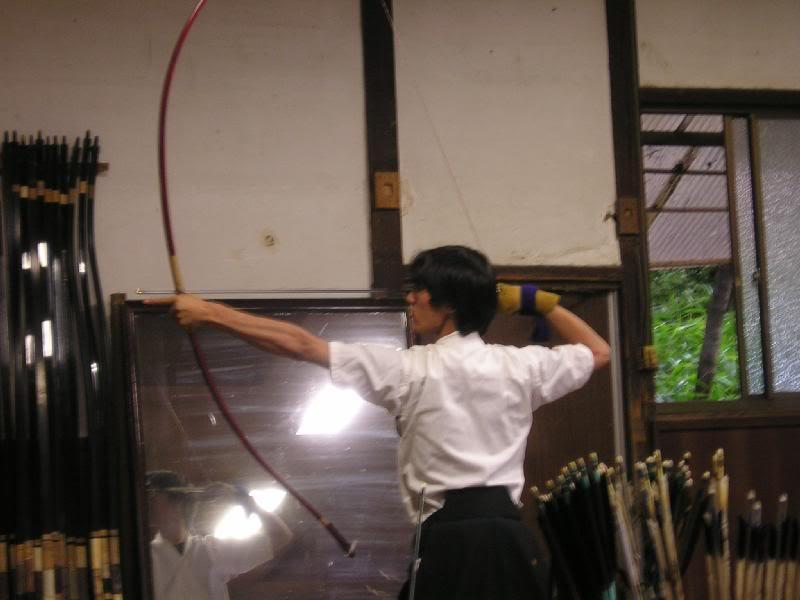person: (145, 247, 612, 600)
